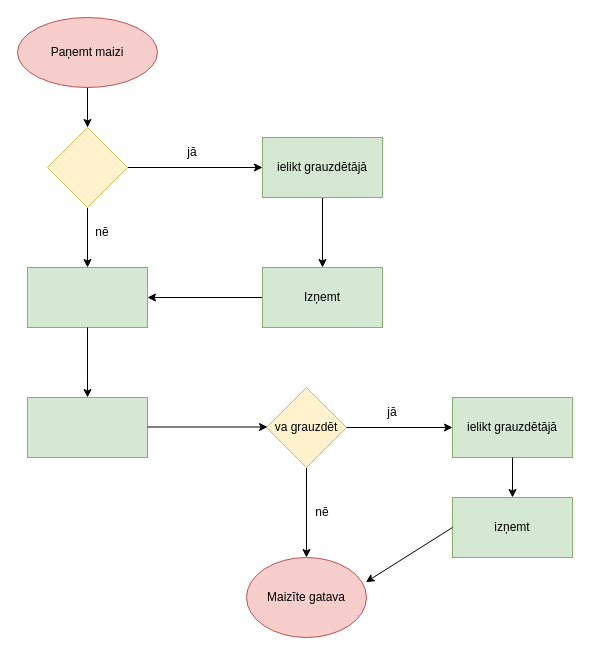
This 590x655 diagram has some shape labels left out. Here are the shapes that lost their labels. From the top down, the centre of each, then its label:
(87,167): vai grauzdēt
(87,297): uzklāt sviestu
(87,427): pievienot sieru
